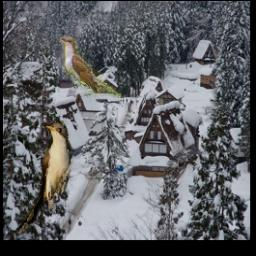Cuckoo: (16, 121, 71, 235), (60, 36, 124, 98)
